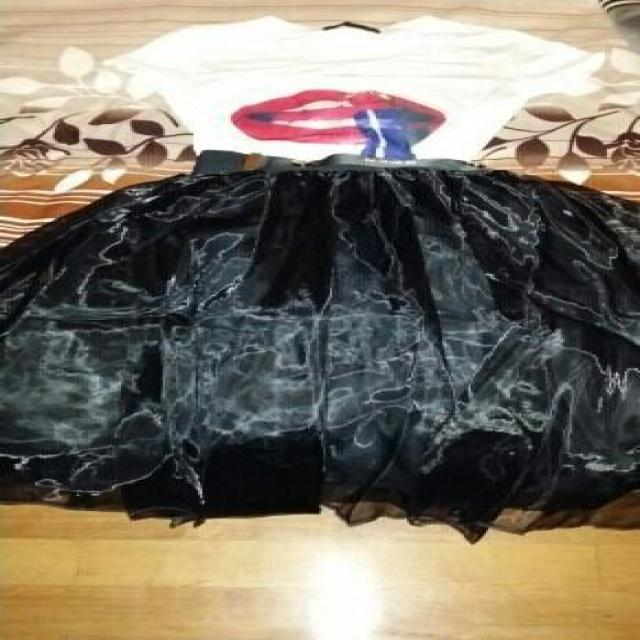short sleeve top: (110, 15, 605, 169)
skirt: (0, 153, 638, 526)
